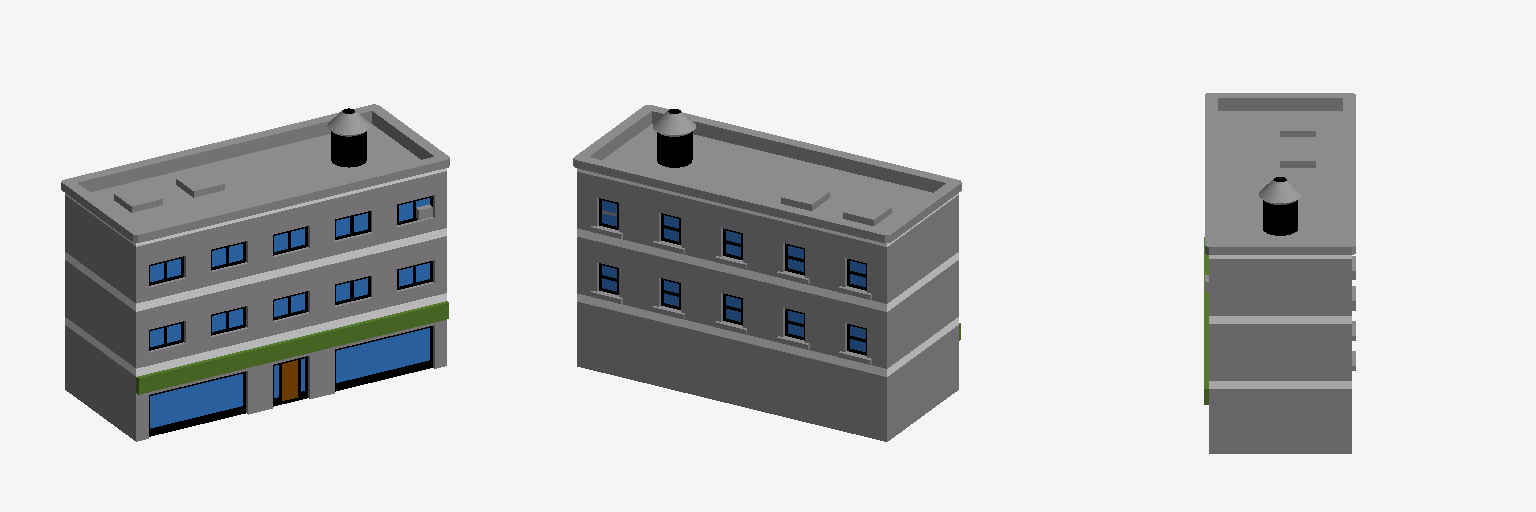
3 views of the same model, side by side, from view 1: azimuth 30°, elevation 25°; view 2: azimuth 150°, elevation 25°; view 3: azimuth 270°, elevation 25° (orthographic).
Visible parts, largest first — view 1: large_buildingF; view 2: large_buildingF; view 3: large_buildingF.
Boxes of the visible parts, x1,y1,x2,y2 form: large_buildingF: [61, 104, 449, 441]; large_buildingF: [573, 105, 961, 441]; large_buildingF: [1204, 93, 1355, 453].
Size of the model in its own units: 1.02 by 0.7499 by 0.4224.
1 materials, 1 textured.